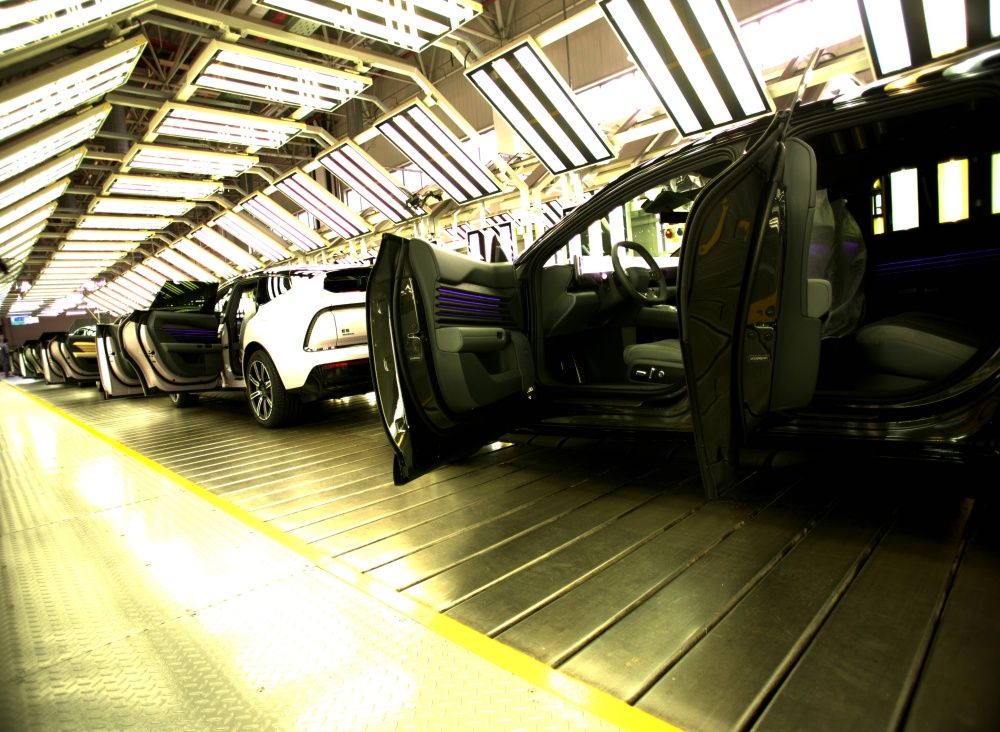panel_color: (432, 277, 516, 329), (434, 330, 510, 358)
